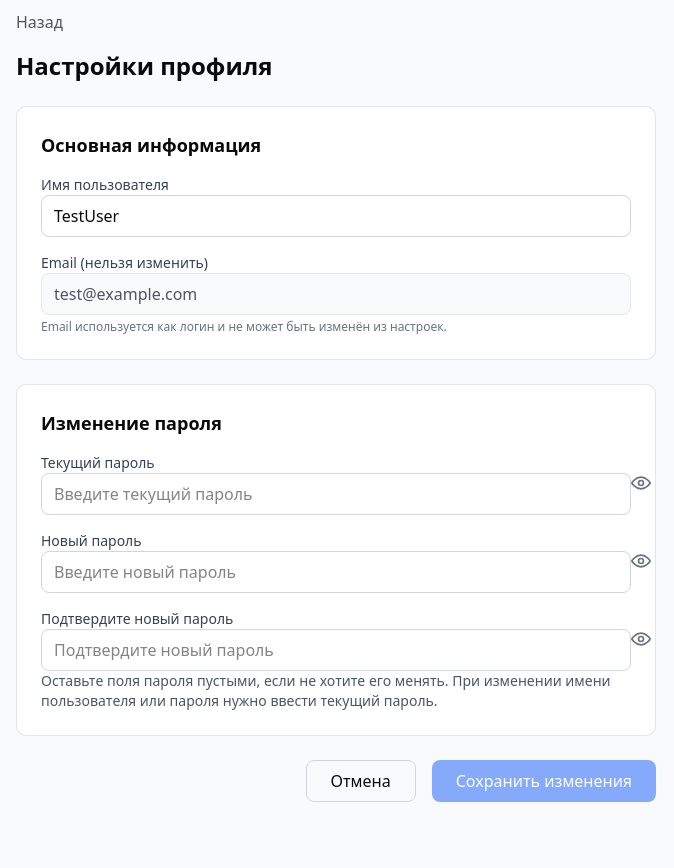
Test: SimpleSettingsPage › валидация: имя пользователя › логин из одного символа — ошибка «Имя должно быть не менее 2 символов»
Replace the text in the field labelled "Имя пользователя" with "a" at (336, 216), box [41,195,631,237]
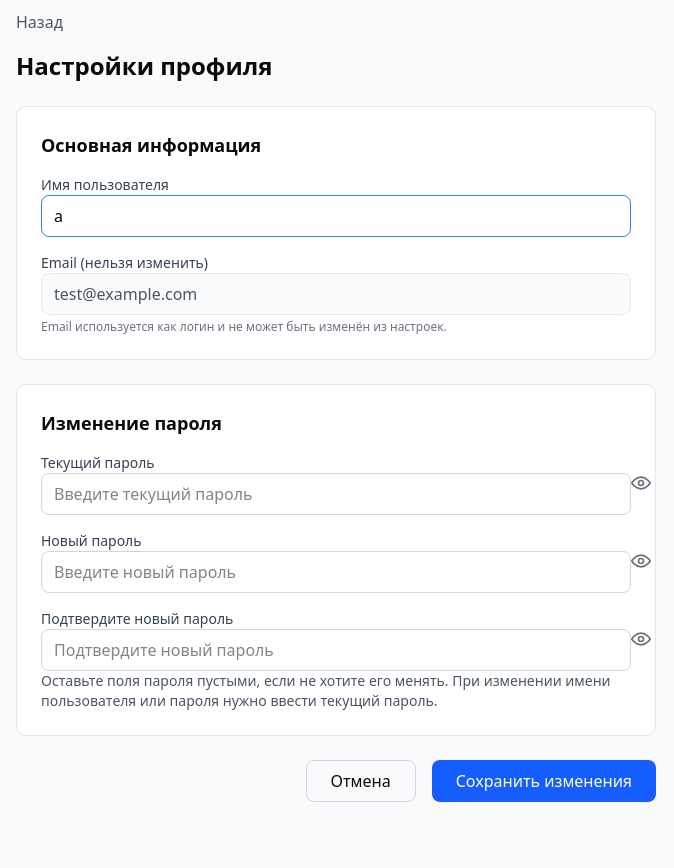
Click the button "Сохранить изменения" at (544, 781), box [432,760,656,802]
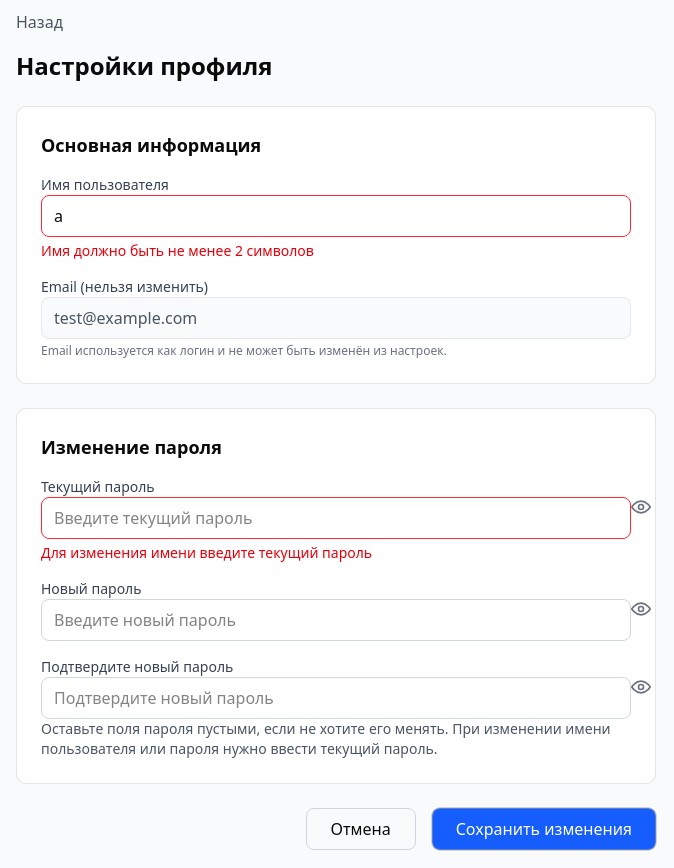
Check: the text "Имя должно быть не менее 2 символов" is shown, box [41,241,314,260]
